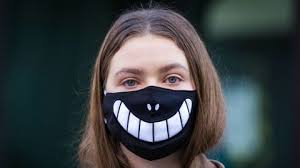with_mask: (85, 8, 234, 164)
